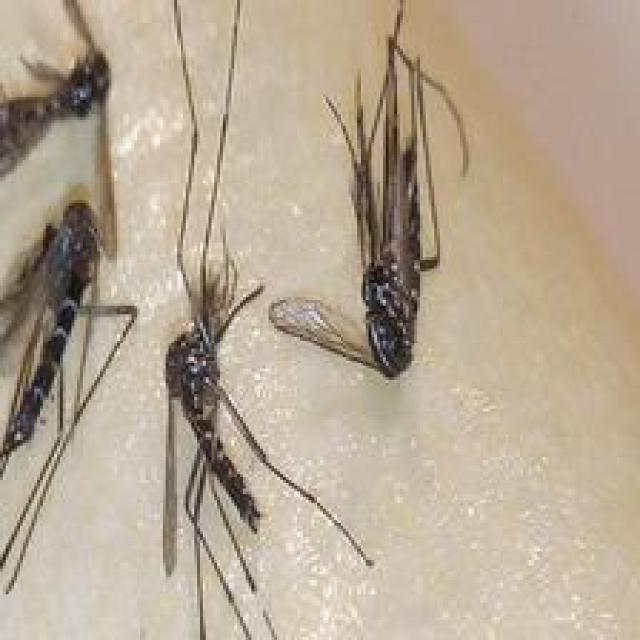Aedes albopictus: (267, 0, 470, 380)
